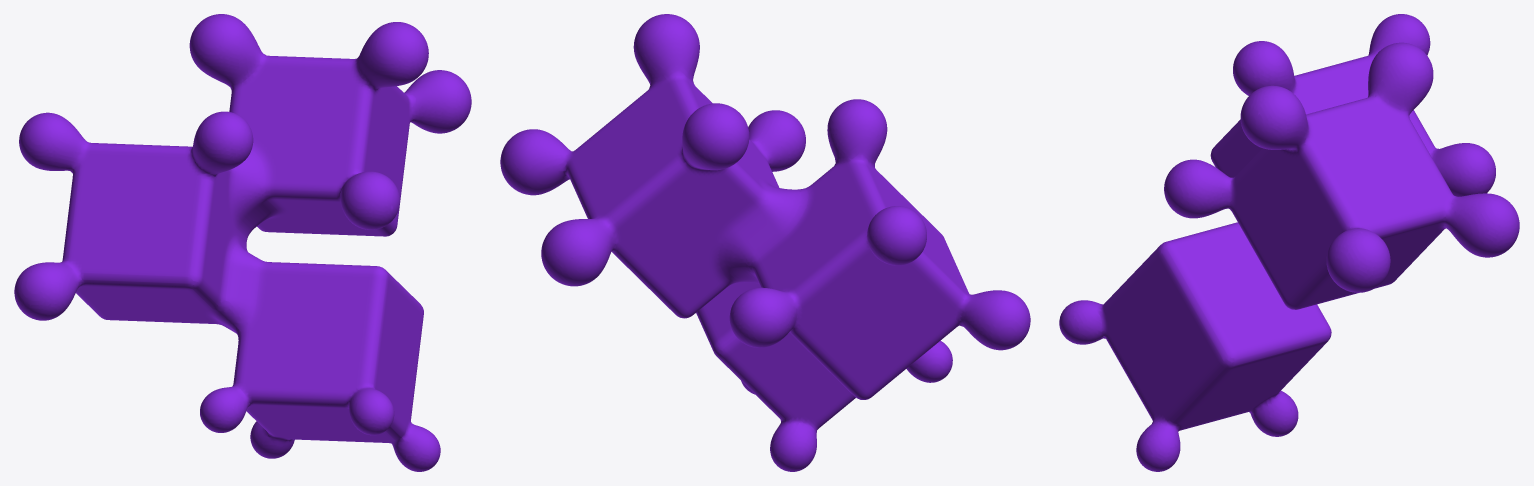
The model's file is Virus02.fbx.
The picture shows the model from 3 angles, left to right: view 1: azimuth 30°, elevation 25°; view 2: azimuth 150°, elevation 25°; view 3: azimuth 270°, elevation 25°; orthographic projection. The views are drawn at different scales.
Visible parts, largest first — view 1: Mball.016; view 2: Mball.016; view 3: Mball.016.
Part boxes in pixels (x1,y1,x2,y2): Mball.016: (14,14,471,471); Mball.016: (500,14,1030,471); Mball.016: (1059,14,1519,471).
Size of the model in its own units: 28.32 by 22.98 by 23.58.
